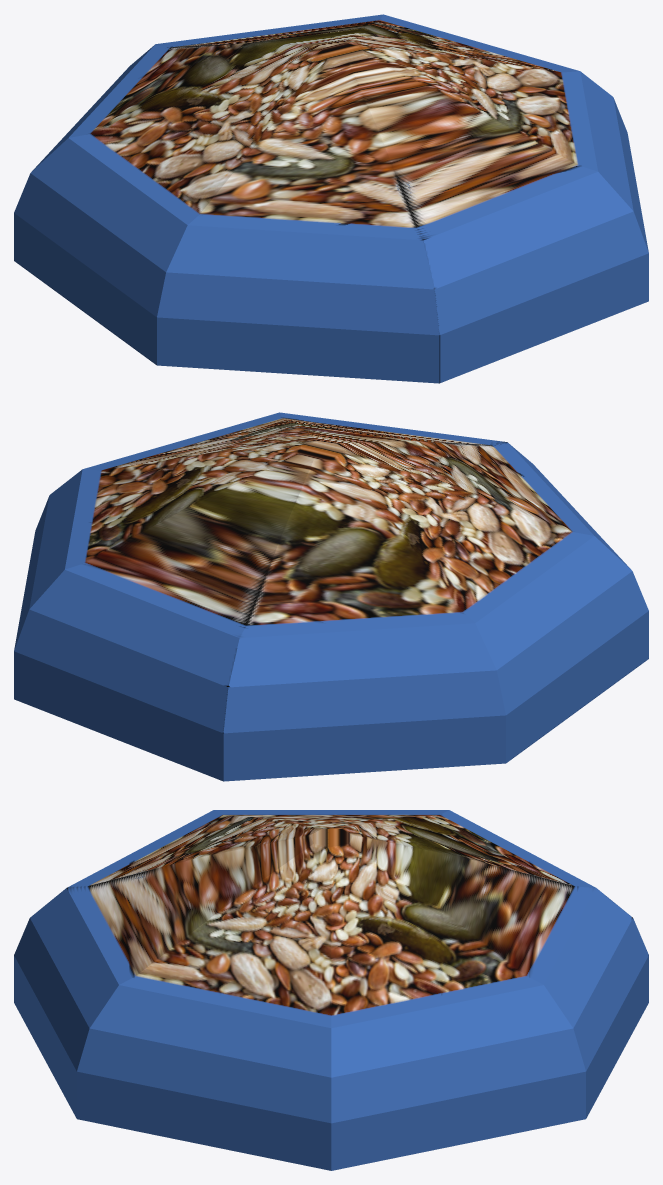
The model's file is FoodBowl.fbx.
The picture shows the model from 3 angles, top to bottom: view 1: azimuth 30°, elevation 25°; view 2: azimuth 150°, elevation 25°; view 3: azimuth 270°, elevation 25°; orthographic projection.
Visible parts, largest first — view 1: Plane; view 2: Plane; view 3: Plane.
Boxes of the visible parts, left/top/right/bottom form: Plane: left=14, top=14, right=648, bottom=383; Plane: left=14, top=412, right=648, bottom=781; Plane: left=14, top=810, right=648, bottom=1170.
Bounding box in the file's own units: 950 × 332 × 975.
